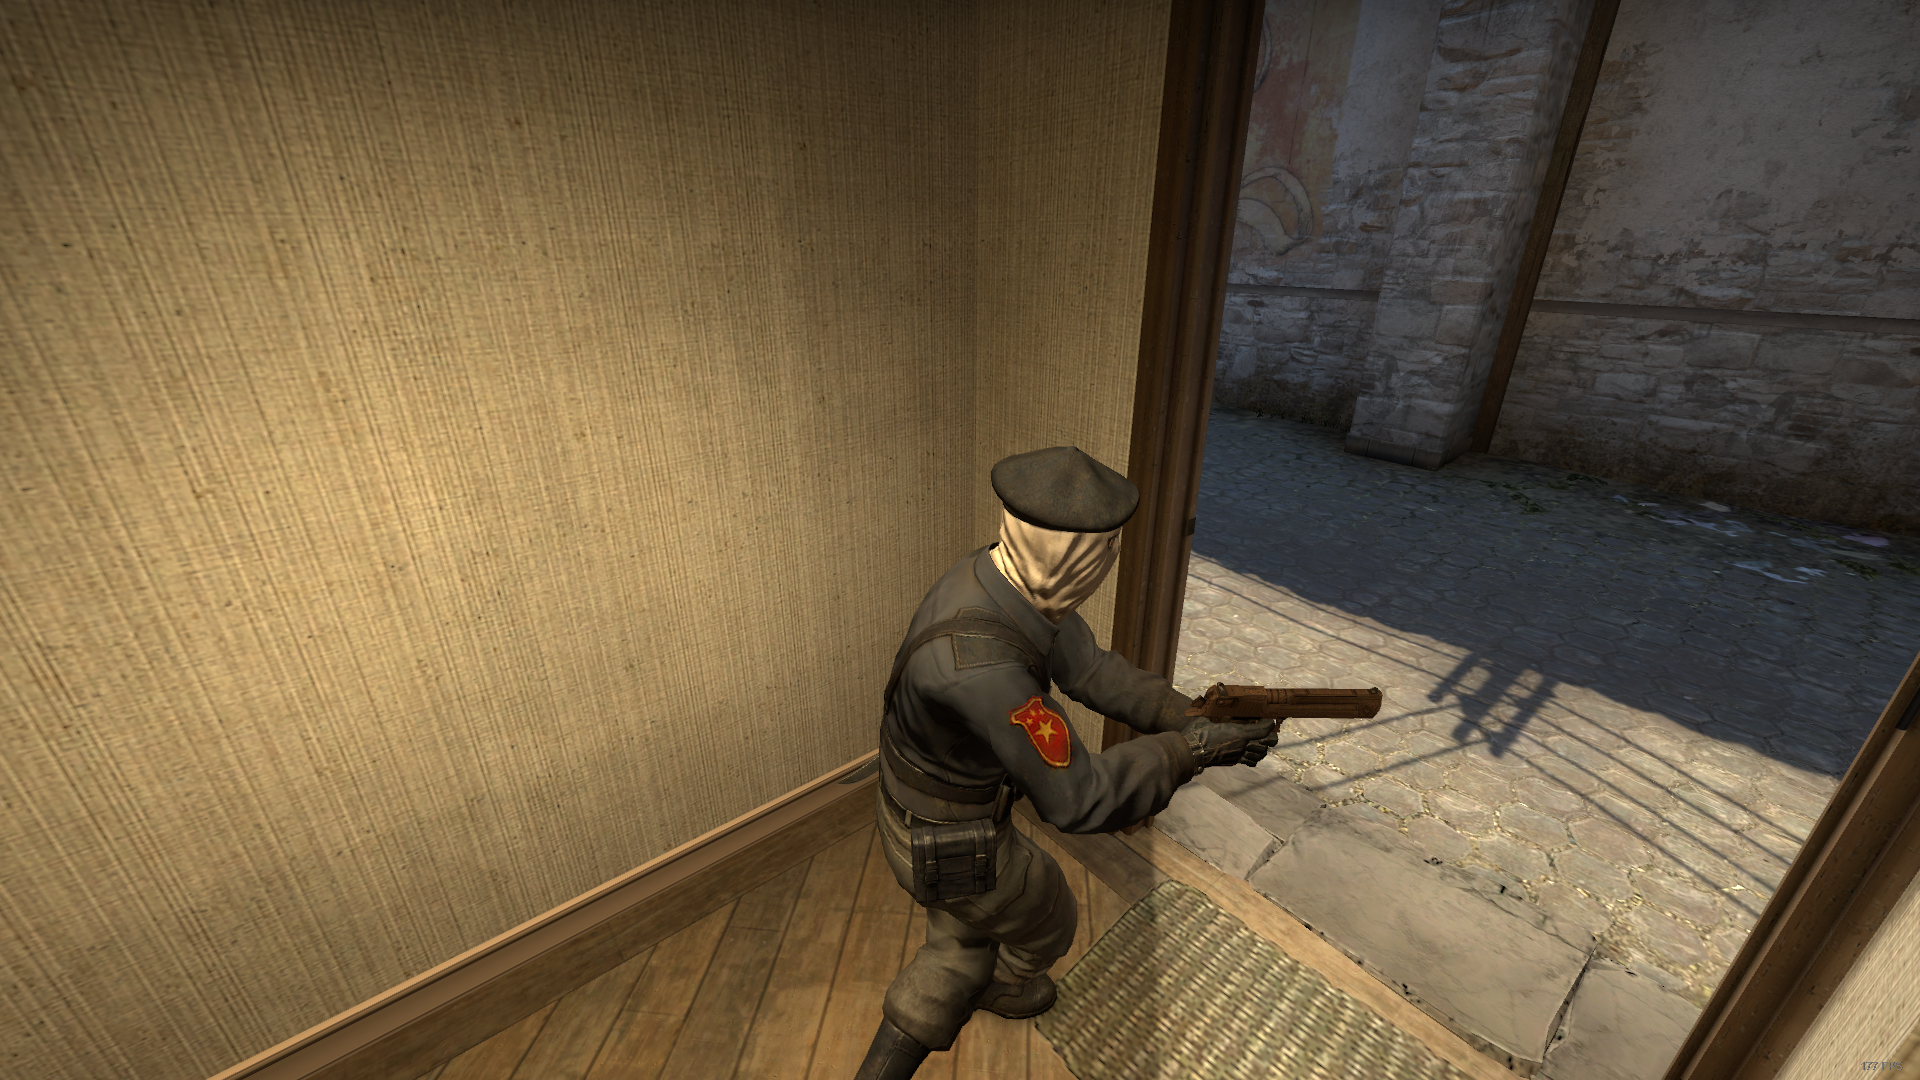t: (856, 429, 1292, 1080)
